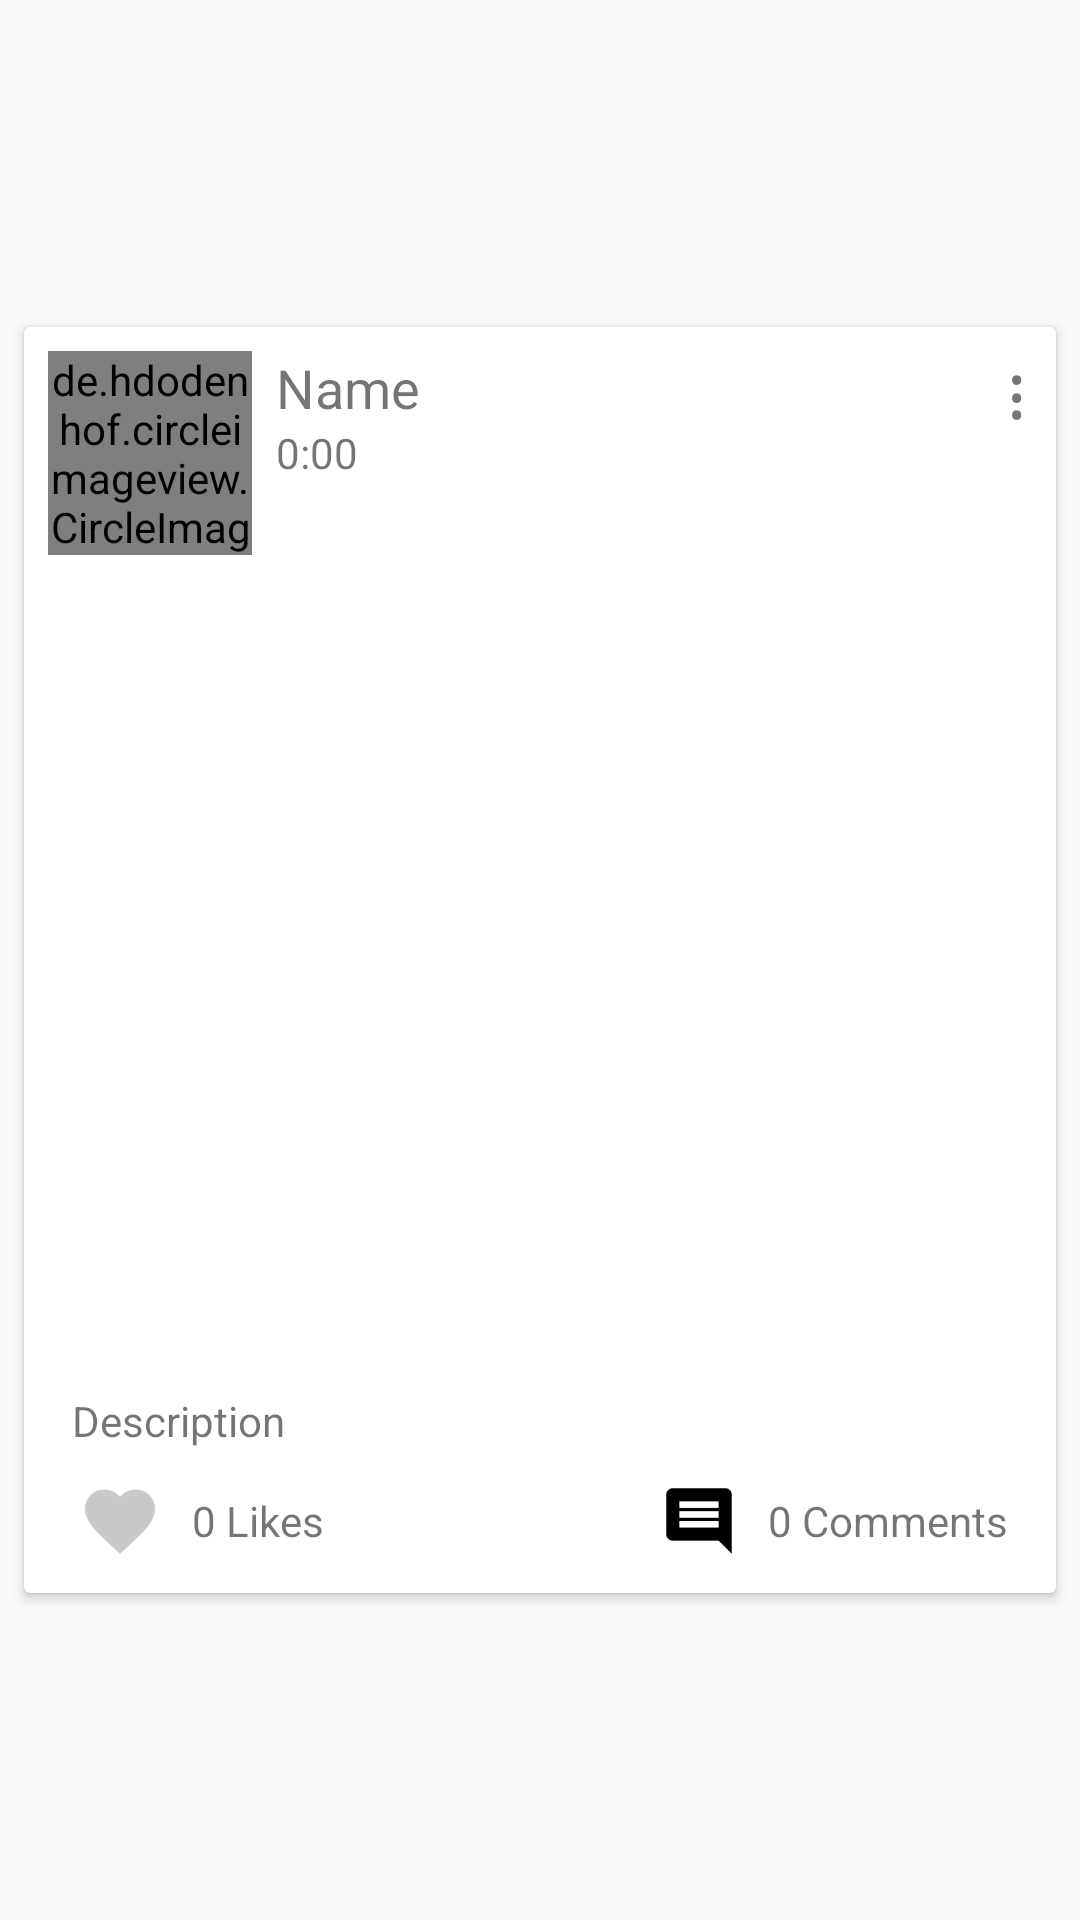

Named icons in this screenshot (1080*1920) and their centers, [x,y]:
favorite: [120,1521]
